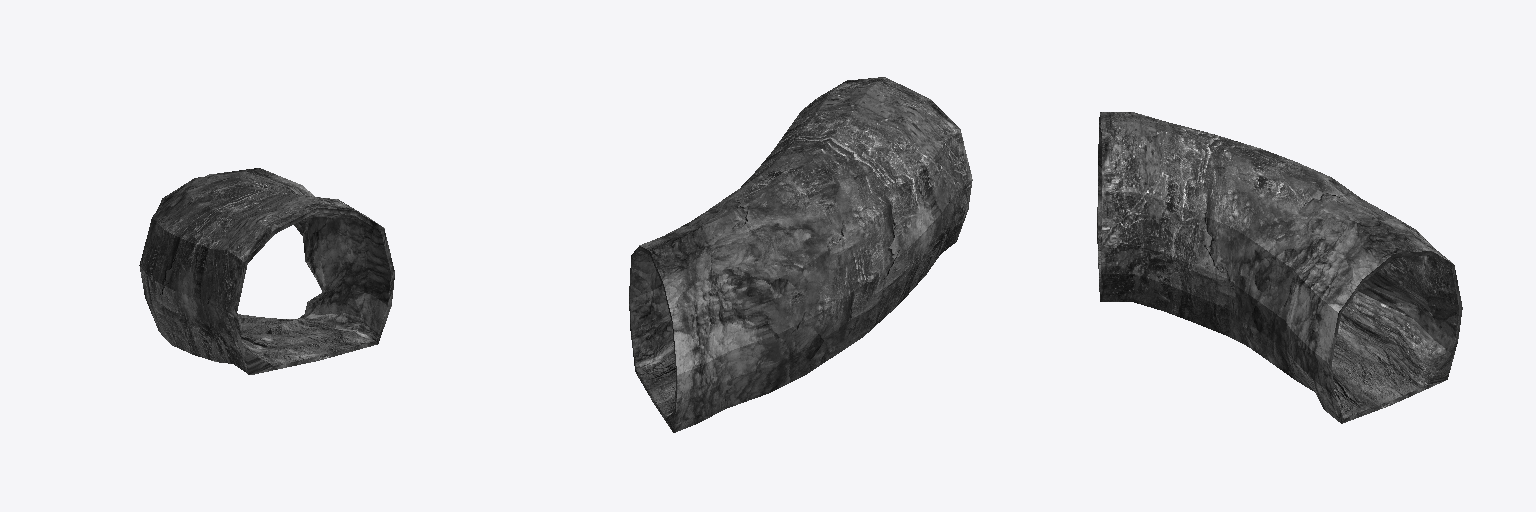
The picture shows the model from 3 angles: view 1: azimuth 30°, elevation 25°; view 2: azimuth 150°, elevation 25°; view 3: azimuth 270°, elevation 25°; orthographic projection.
Visible parts, largest first — view 1: Group14_cave7; view 2: Group14_cave7; view 3: Group14_cave7.
Boxes of the visible parts, box(x1,y1,x2,y2) form: Group14_cave7: box(139, 168, 394, 374); Group14_cave7: box(629, 77, 972, 432); Group14_cave7: box(1097, 112, 1462, 423).
Bounding box in the file's own units: 143 × 144 × 197.
1 materials, 1 textured.